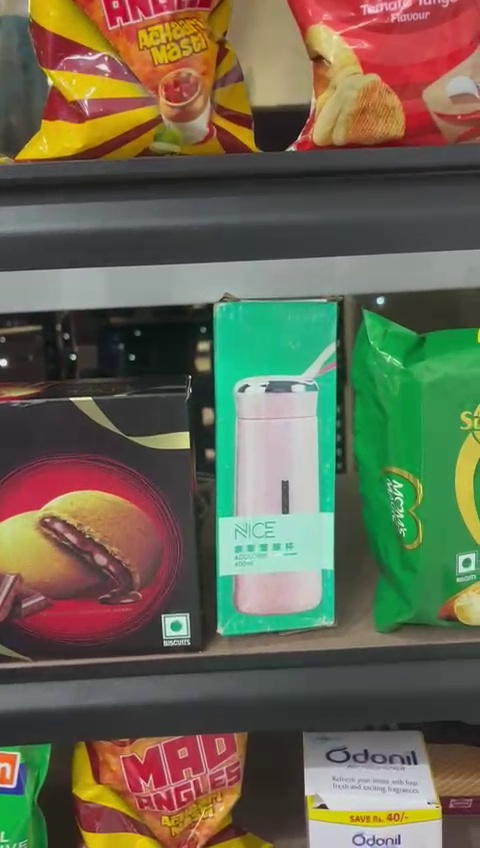Bottle: (220, 295, 339, 631)
